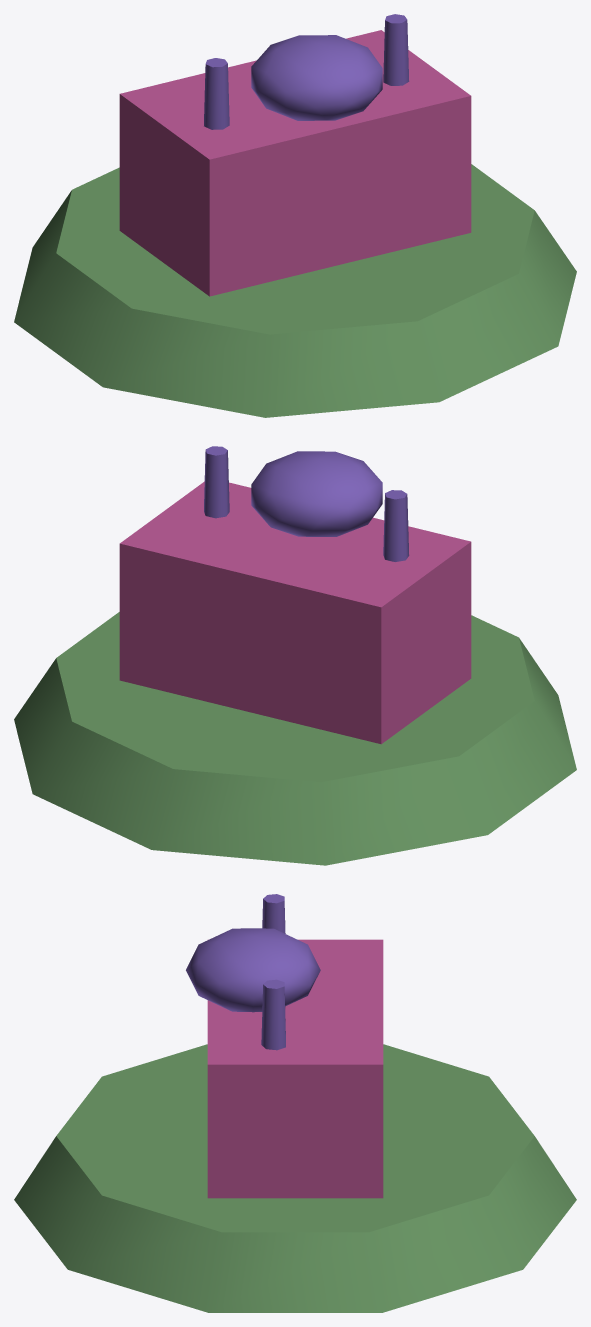
Rendered from sanctuary.glb.
The picture shows the model from 3 angles, top to bottom: view 1: azimuth 30°, elevation 25°; view 2: azimuth 150°, elevation 25°; view 3: azimuth 270°, elevation 25°; orthographic projection. The views are drawn at different scales.
Visible parts, largest first — view 1: base, altar, emblem, candle_-1, candle_1; view 2: base, altar, emblem, candle_1, candle_-1; view 3: base, altar, emblem, candle_1, candle_-1.
Part boxes in pixels (box(x1,y1,x2,y2)): base: box(14, 164, 576, 417); altar: box(119, 30, 471, 296); emblem: box(251, 35, 382, 120); candle_-1: box(204, 58, 229, 129); candle_1: box(383, 14, 409, 85); base: box(14, 612, 576, 865); altar: box(119, 481, 471, 744); emblem: box(251, 451, 382, 536); candle_1: box(204, 446, 229, 518); candle_-1: box(383, 490, 409, 561); base: box(14, 1044, 576, 1312); altar: box(207, 939, 383, 1198); emblem: box(186, 928, 320, 1012); candle_1: box(261, 979, 285, 1050); candle_-1: box(262, 894, 285, 933).
Size of what is drawn, in the model's own units: 3.8 by 2.06 by 4.
